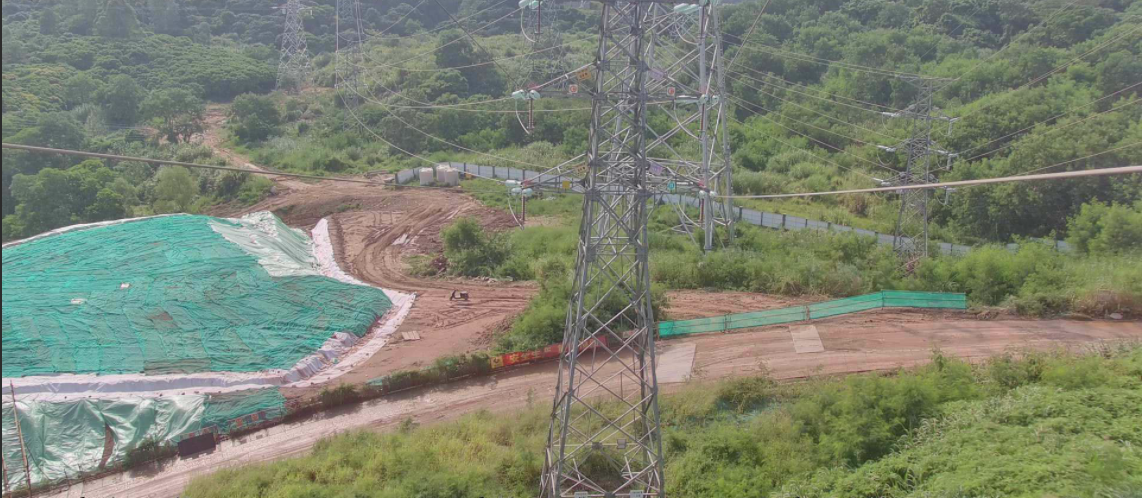绿膜: (0, 214, 393, 378), (198, 385, 288, 437), (365, 374, 386, 385)
